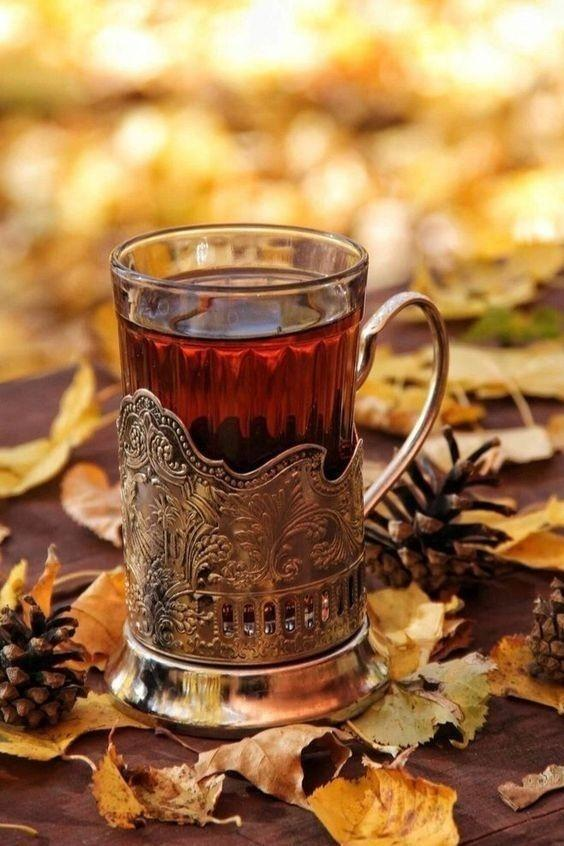glass-mug: (98, 216, 459, 743)
